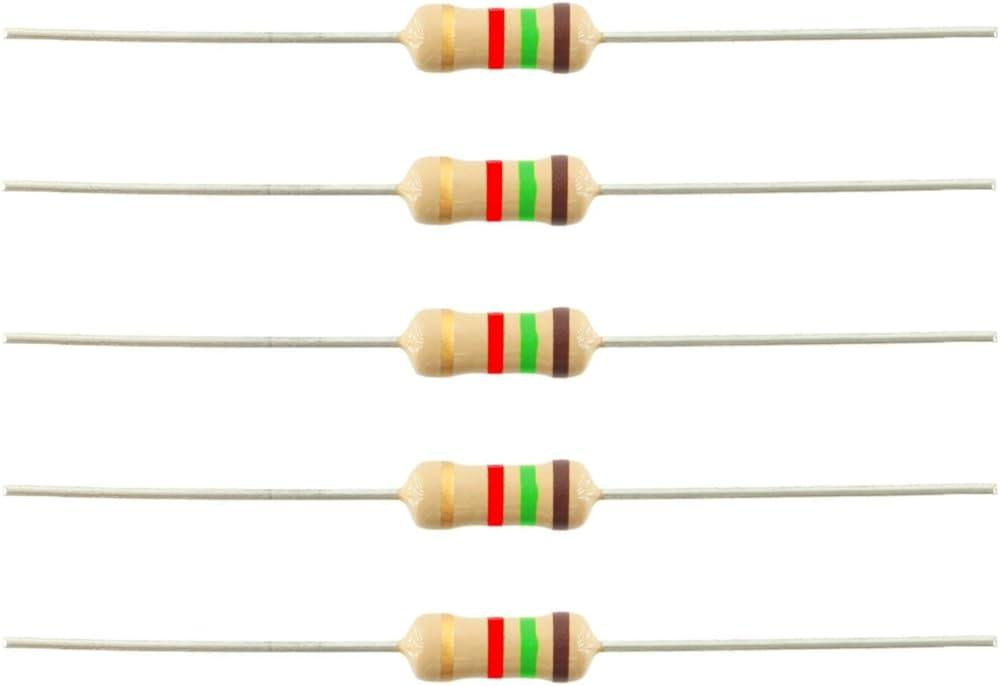resistor: (399, 451, 600, 534), (402, 304, 599, 381), (402, 1, 600, 74), (402, 611, 602, 681), (404, 154, 596, 225)
